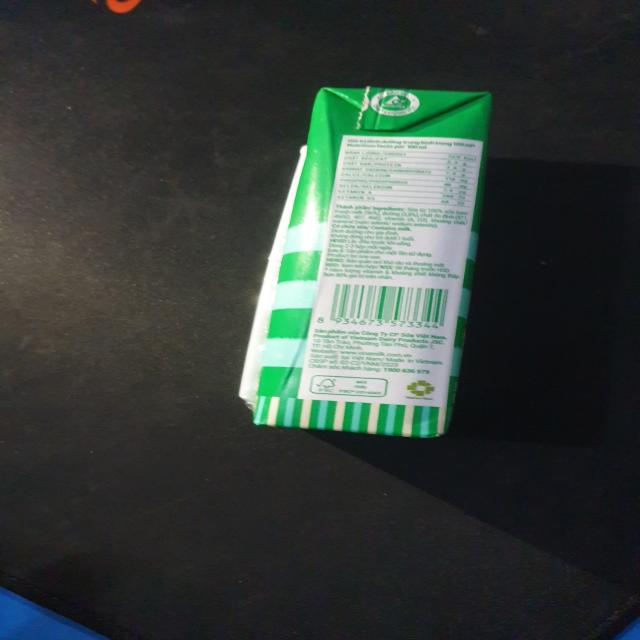Vina: (244, 92, 501, 443)
